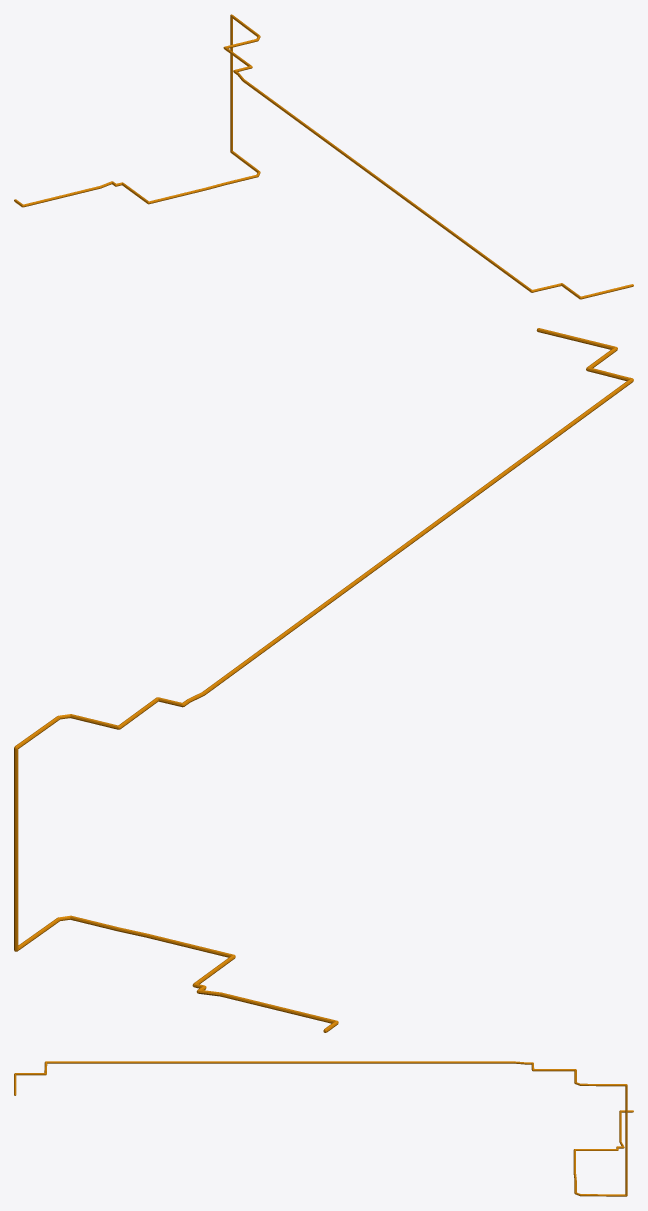
3 views of the same model, one above another, from view 1: azimuth 30°, elevation 25°; view 2: azimuth 150°, elevation 25°; view 3: azimuth 270°, elevation 25° (orthographic). The views are drawn at different scales.
Bounding box in the file's own units: 1843 × 1020 × 5095.
